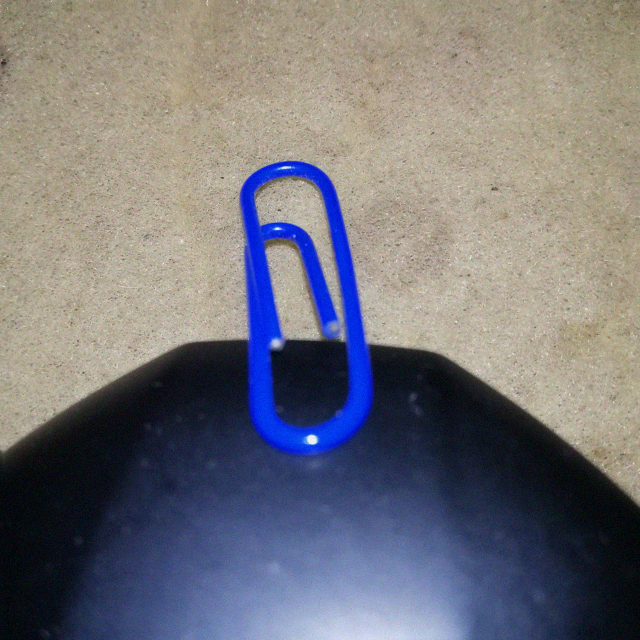pin: (239, 152, 370, 451)
